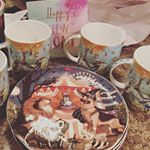cups: (62, 20, 128, 75), (1, 18, 55, 83), (109, 43, 150, 115)
